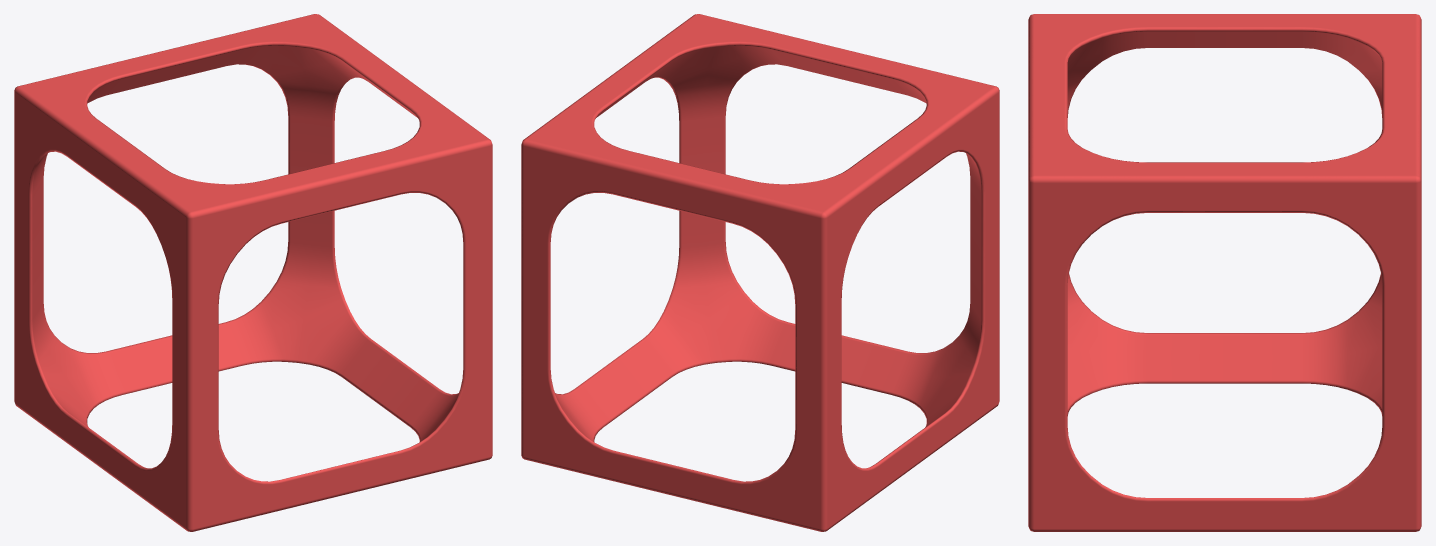
The model's file is perfect_cube.fbx.
3 renders of one model, left to right at view 1: azimuth 30°, elevation 25°; view 2: azimuth 150°, elevation 25°; view 3: azimuth 270°, elevation 25°, orthographic. The views are drawn at different scales.
Visible parts, largest first — view 1: perfect cube; view 2: perfect cube; view 3: perfect cube.
Boxes of the visible parts, <box> form: perfect cube: <box>14,14,492,531</box>; perfect cube: <box>521,14,999,531</box>; perfect cube: <box>1028,14,1421,531</box>.
Bounding box in the file's own units: 200 × 200 × 200.
